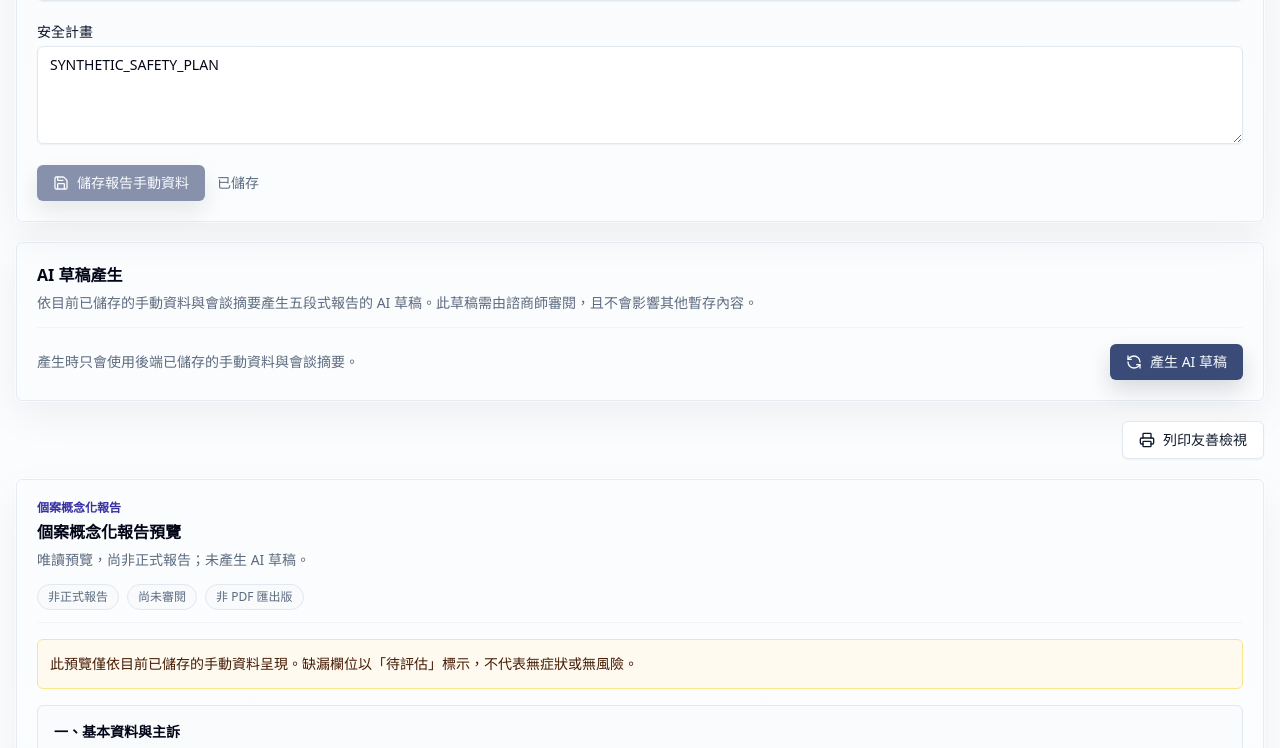
ReportPage behavior › v2 generation 422 shows friendly insufficient-summary message and conversation link
The width and height of the screenshot is (1280, 748).
(page scrolled)
Click the button "產生 AI 草稿" at (1176, 362), box [1110,344,1243,380]
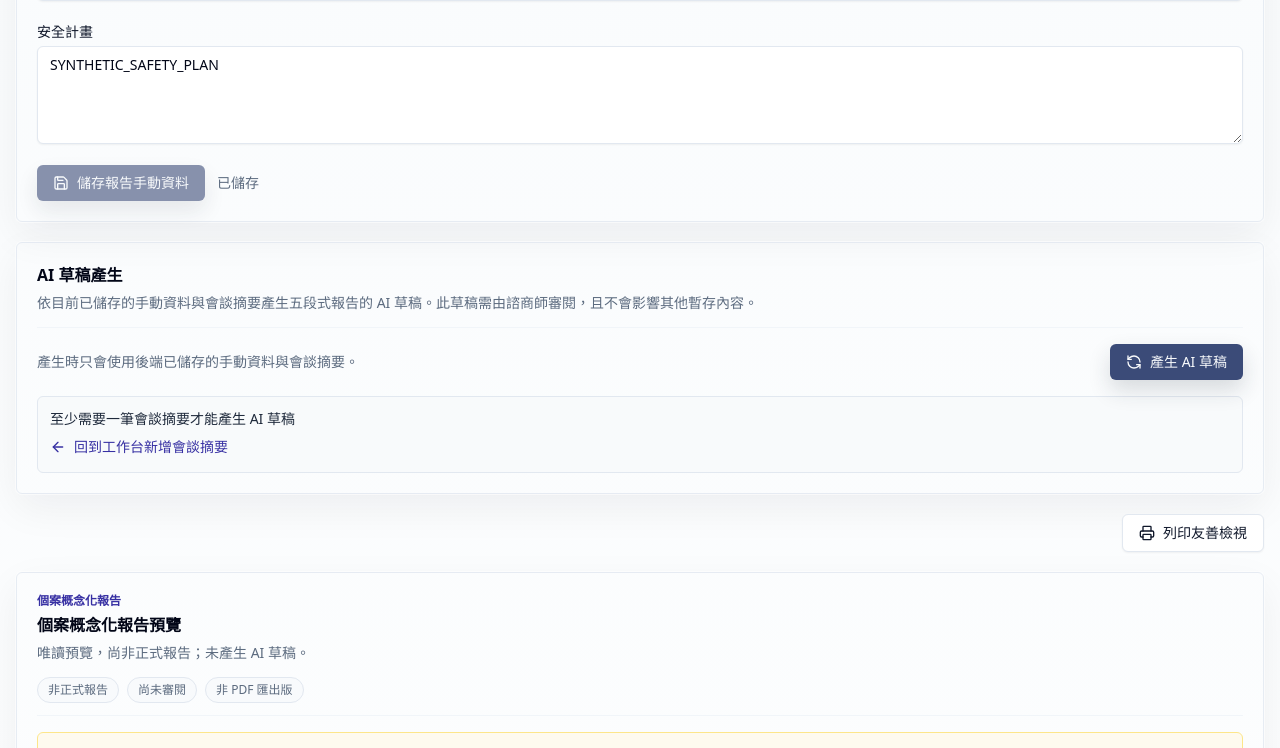
Now the text "至少需要一筆會談摘要才能產生 AI 草稿" is shown, box [50,409,295,428]
